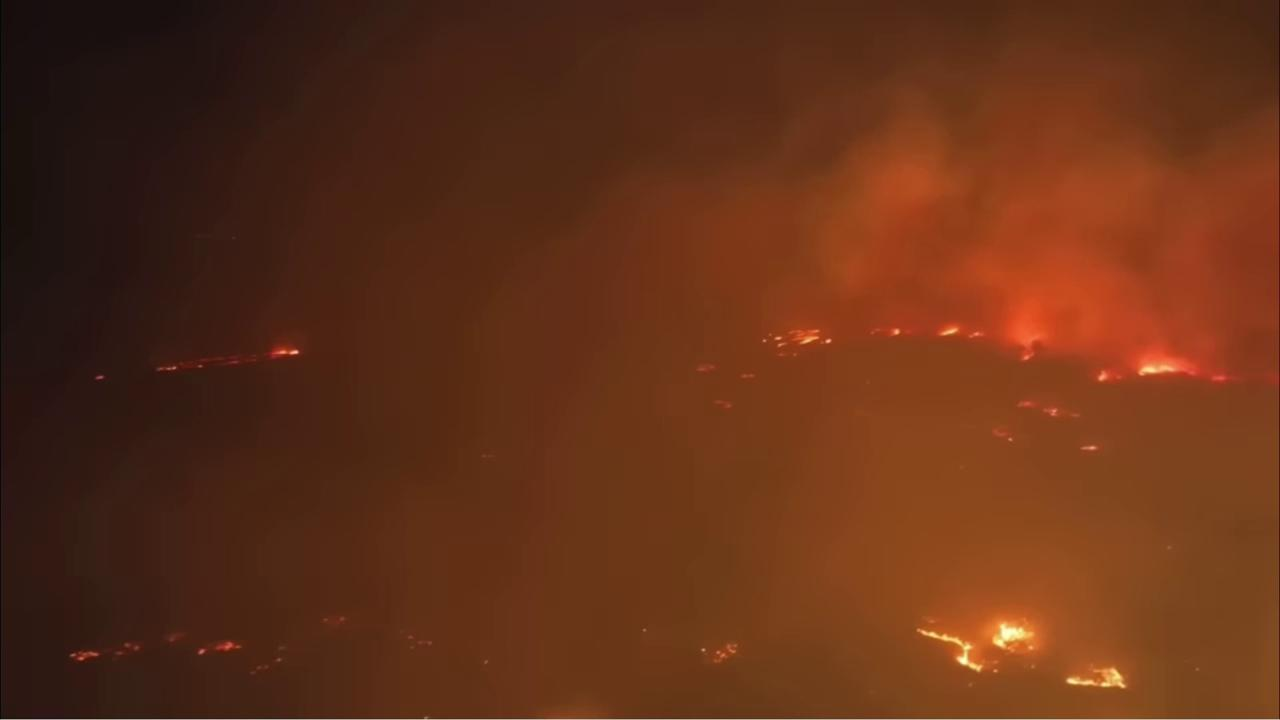fire: (909, 612, 985, 680), (154, 342, 301, 374), (760, 325, 835, 357), (66, 636, 143, 667), (1063, 660, 1131, 693), (991, 617, 1039, 656), (1016, 395, 1084, 421), (1134, 359, 1199, 381), (193, 639, 245, 658), (711, 639, 739, 666), (987, 424, 1020, 445), (866, 325, 904, 340), (939, 321, 961, 343), (709, 398, 738, 412), (692, 362, 721, 375), (1095, 367, 1113, 386), (1018, 347, 1038, 363), (966, 328, 989, 341), (1210, 371, 1233, 384), (163, 631, 184, 644), (1076, 443, 1100, 454), (740, 371, 759, 381), (94, 371, 107, 385)
smoke: (0, 0, 1280, 720)
